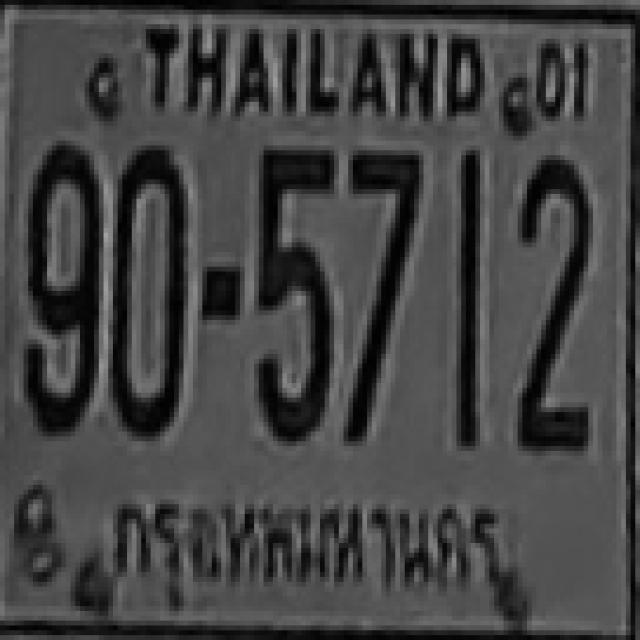0: (112, 140, 201, 450)
1: (446, 141, 497, 467)
2: (509, 147, 609, 474)
5: (237, 129, 344, 462)
7: (348, 146, 436, 456)
9: (10, 141, 104, 436)
Bangkok: (90, 480, 516, 617)
